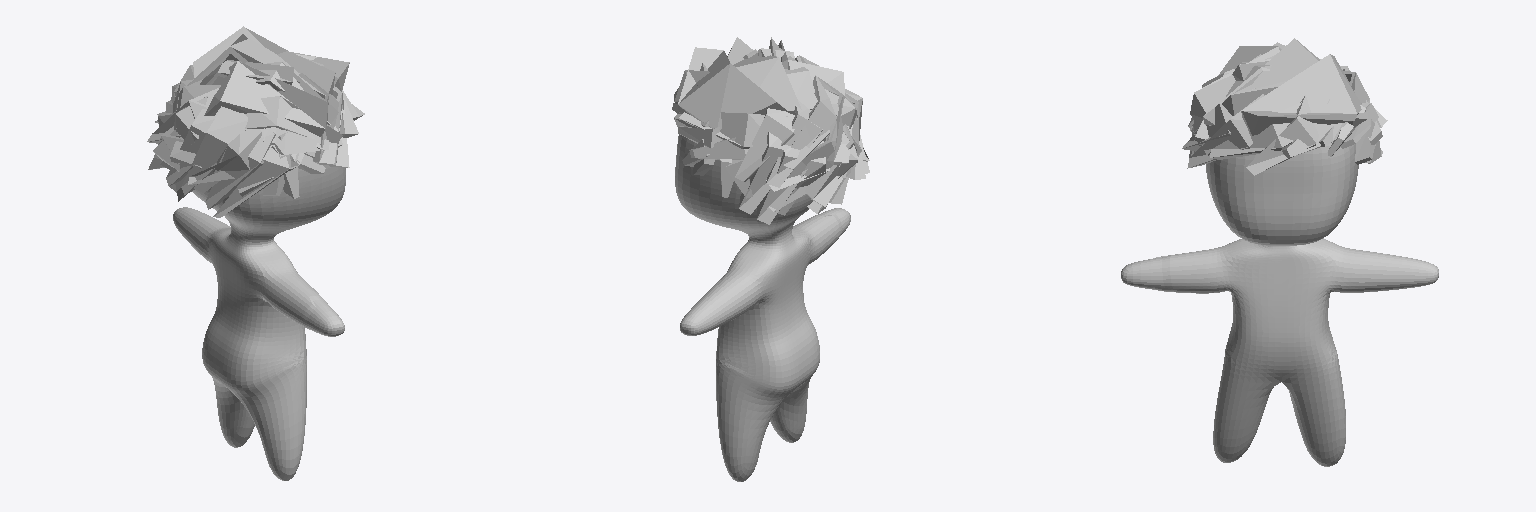
File: Human.obj
3 renders of one model, left to right at view 1: azimuth 30°, elevation 25°; view 2: azimuth 150°, elevation 25°; view 3: azimuth 270°, elevation 25°, orthographic.
Visible parts, largest first — view 1: pasted__pasted__pasted__pasted__pCube2 pasted__pasted__pasted__g, pasted__pasted__pCube1; view 2: pasted__pasted__pasted__pasted__pCube2 pasted__pasted__pasted__g, pasted__pasted__pCube1; view 3: pasted__pasted__pasted__pasted__pCube2 pasted__pasted__pasted__g, pasted__pasted__pCube1.
Boxes of the visible parts, x1=… form: pasted__pasted__pasted__pasted__pCube2 pasted__pasted__pasted__g: x1=173, y1=165, x2=345, y2=480; pasted__pasted__pCube1: x1=147, y1=26, x2=364, y2=217; pasted__pasted__pasted__pasted__pCube2 pasted__pasted__pasted__g: x1=675, y1=114, x2=850, y2=481; pasted__pasted__pCube1: x1=672, y1=37, x2=869, y2=224; pasted__pasted__pasted__pasted__pCube2 pasted__pasted__pasted__g: x1=1121, y1=142, x2=1438, y2=466; pasted__pasted__pCube1: x1=1182, y1=38, x2=1387, y2=175.
Size of the model in its own units: 1.29 by 2.67 by 1.84.